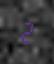two: (19, 19, 32, 44)
